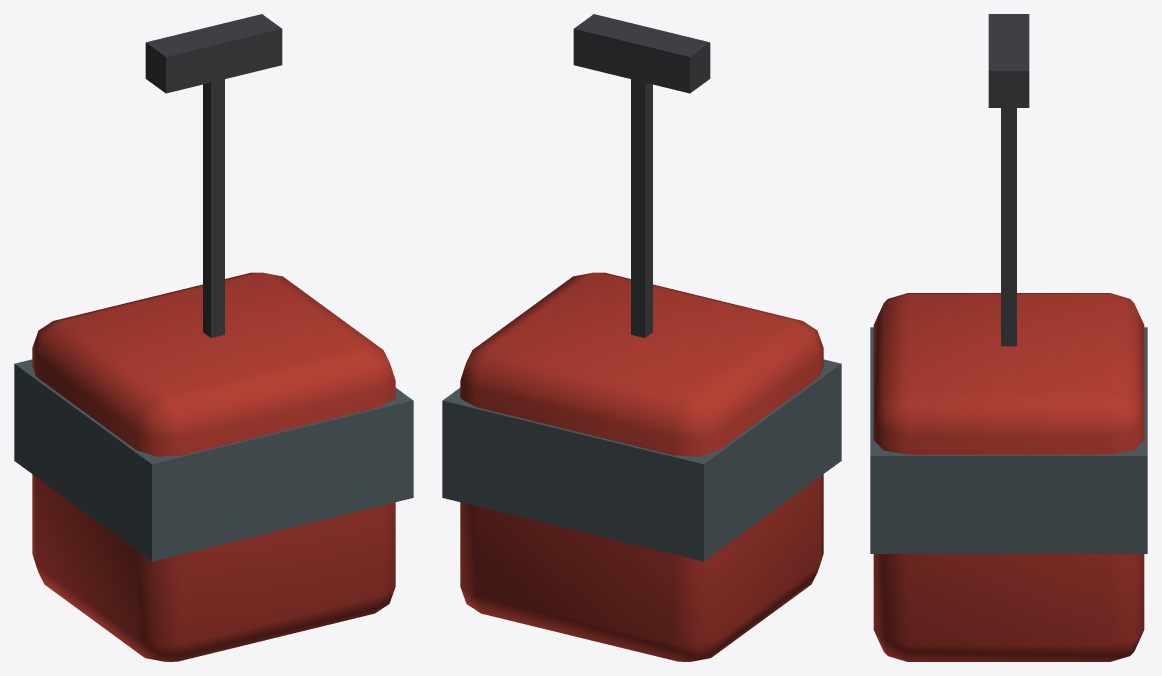
File: gondola.glb
3 views of the same model, side by side, from view 1: azimuth 30°, elevation 25°; view 2: azimuth 150°, elevation 25°; view 3: azimuth 270°, elevation 25° (orthographic).
Parts seen in each view (by area): view 1: gondola_M_RedPaint, gondola_M_GlassDirty, gondola_M_SteelDark; view 2: gondola_M_RedPaint, gondola_M_GlassDirty, gondola_M_SteelDark; view 3: gondola_M_RedPaint, gondola_M_GlassDirty, gondola_M_SteelDark.
Part boxes in pixels (bbox=[...]): gondola_M_RedPaint: bbox=[32, 272, 395, 661]; gondola_M_GlassDirty: bbox=[14, 359, 413, 561]; gondola_M_SteelDark: bbox=[145, 14, 282, 337]; gondola_M_RedPaint: bbox=[460, 272, 823, 661]; gondola_M_GlassDirty: bbox=[442, 359, 841, 561]; gondola_M_SteelDark: bbox=[573, 14, 710, 337]; gondola_M_RedPaint: bbox=[873, 293, 1144, 661]; gondola_M_GlassDirty: bbox=[870, 327, 1147, 553]; gondola_M_SteelDark: bbox=[988, 14, 1029, 346].
Bounding box in the file's own units: 2.25 × 4.65 × 2.05.
